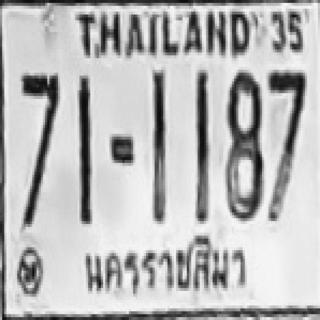N01: (151, 70, 164, 204), (78, 76, 91, 209), (151, 70, 164, 198), (194, 68, 207, 194)
N07: (266, 68, 305, 214), (22, 73, 58, 215), (266, 68, 305, 182), (22, 71, 58, 182), (266, 67, 305, 163), (22, 73, 58, 166)
N08: (223, 70, 262, 218)
P30: (78, 230, 251, 295)
